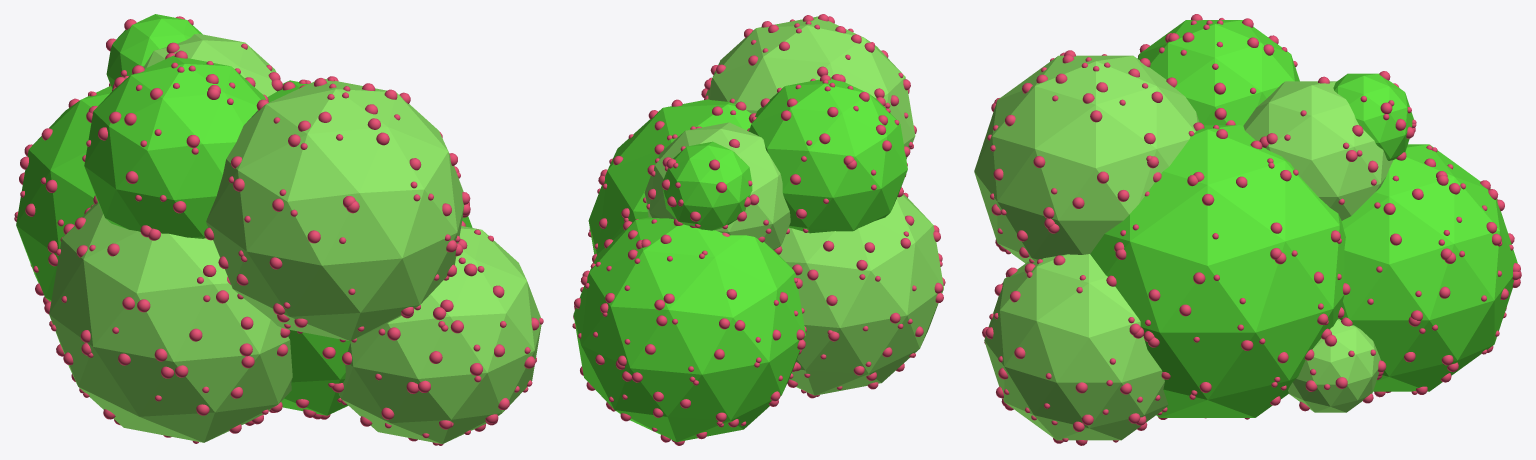
Rendered from Berrybush_1.fbx.
3 views of the same model, side by side, from view 1: azimuth 30°, elevation 25°; view 2: azimuth 150°, elevation 25°; view 3: azimuth 270°, elevation 25° (orthographic). The views are drawn at different scales.
Parts seen in each view (by area): view 1: Icosphere.008; view 2: Icosphere.008; view 3: Icosphere.008.
Part boxes in pixels (x1=…): Icosphere.008: x1=16, y1=14, x2=541, y2=444; Icosphere.008: x1=573, y1=16, x2=943, y2=441; Icosphere.008: x1=974, y1=20, x2=1517, y2=440.
Size of the model in its own units: 271 by 239 by 353.
